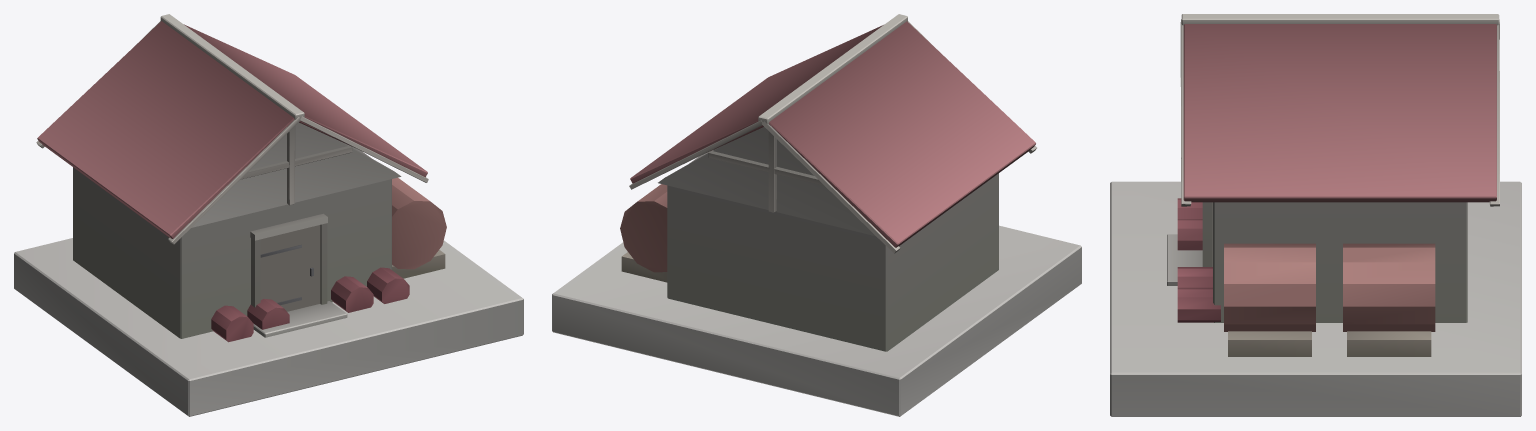
File: winery_l1_lod0.glb
3 renders of one model, left to right at view 1: azimuth 30°, elevation 25°; view 2: azimuth 150°, elevation 25°; view 3: azimuth 270°, elevation 25°, orthographic. The views are drawn at different scales.
Parts seen in each view (by area): view 1: winery_l1_lod0; view 2: winery_l1_lod0; view 3: winery_l1_lod0.
Part boxes in pixels (box(x1,y1,x2,y2)): winery_l1_lod0: box(14, 14, 523, 416); winery_l1_lod0: box(552, 14, 1081, 416); winery_l1_lod0: box(1110, 14, 1521, 416).
Bounding box in the file's own units: 8.4 × 5.91 × 7.6.
